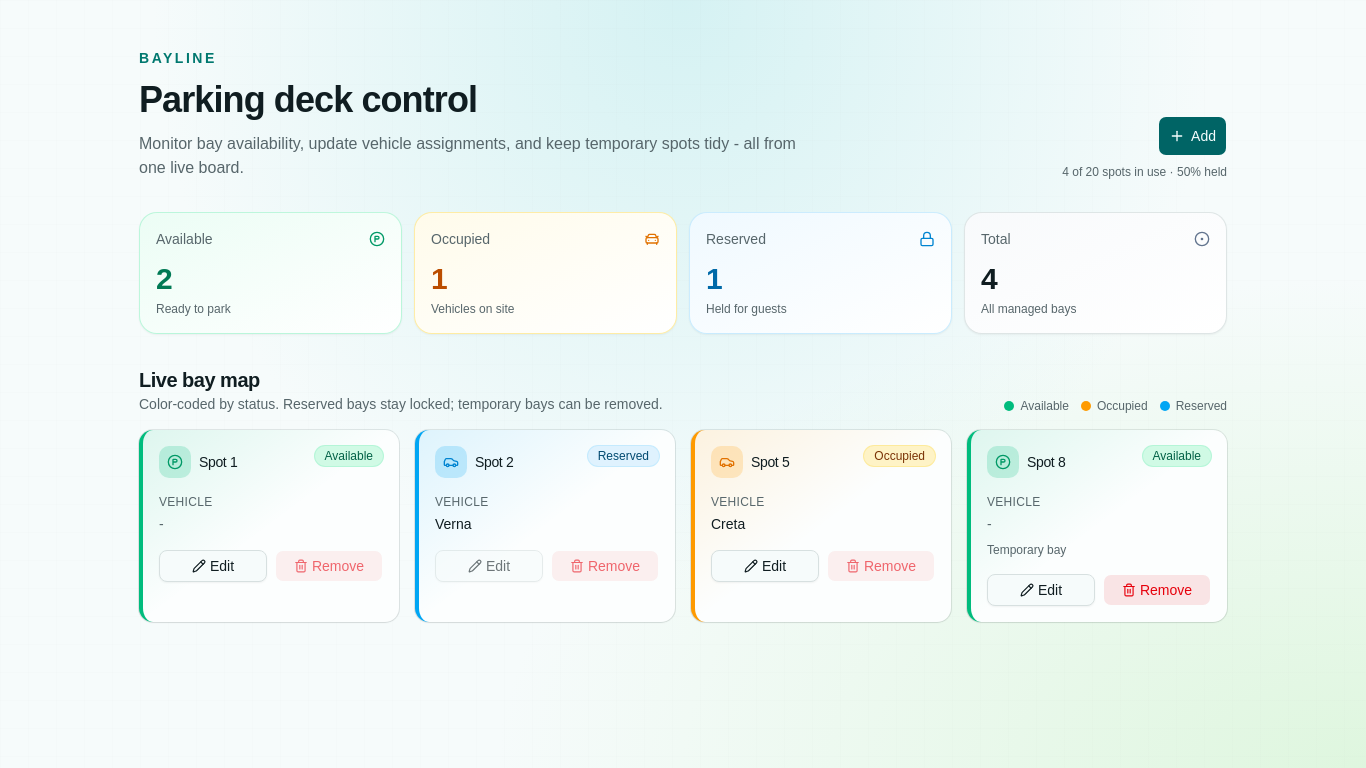
Test: App › removes a temporary spot
This screenshot has width=1366, height=768.
Check: the text "Spot 8" is shown, box [967,430,1227,622]
Click the 4th button "Remove" at [1157, 590], box [1103,574,1211,606]
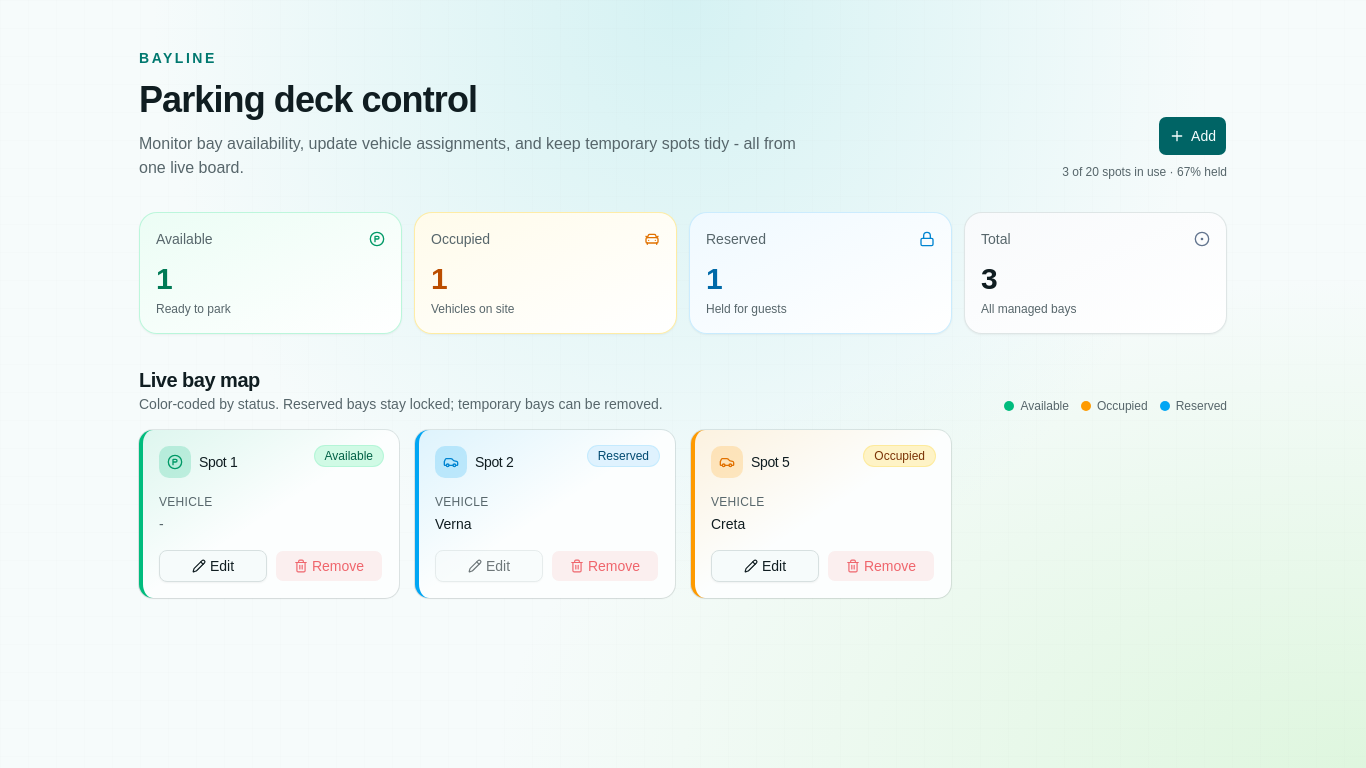
Check: the text "Spot 8" is gone
